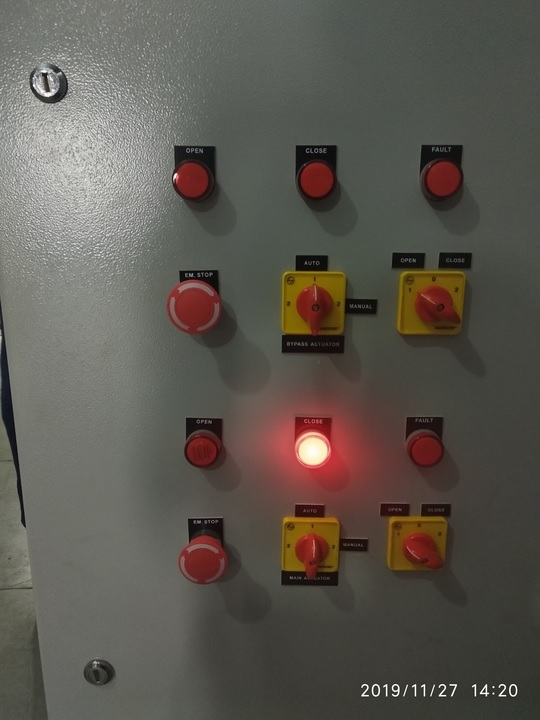Red_Led_Off: (411, 152, 483, 214), (161, 154, 226, 212), (287, 155, 350, 213), (396, 422, 456, 476), (177, 420, 231, 475)
Red_Led_On: (284, 419, 348, 475)
